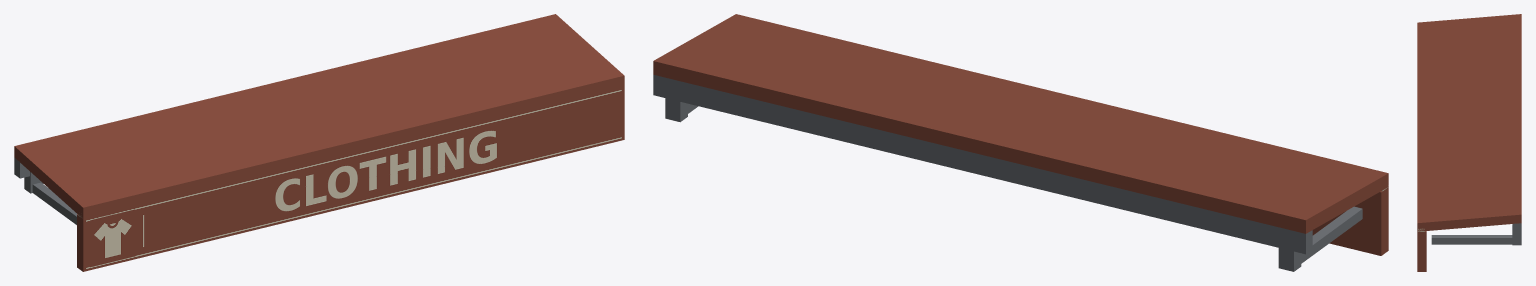
The model's file is building-business-clothing.glb.
The picture shows the model from 3 angles, left to right: view 1: azimuth 30°, elevation 25°; view 2: azimuth 150°, elevation 25°; view 3: azimuth 270°, elevation 25°; orthographic projection. The views are drawn at different scales.
Parts seen in each view (by area): view 1: business-clothing; view 2: business-clothing; view 3: business-clothing.
Boxes of the visible parts, x1,y1,x2,y2 form: business-clothing: (14, 14, 624, 271); business-clothing: (653, 14, 1388, 271); business-clothing: (1417, 14, 1521, 271).
Bounding box in the file's own units: 3 × 0.4 × 0.66.
Materials: 4 (1 with a texture image).
